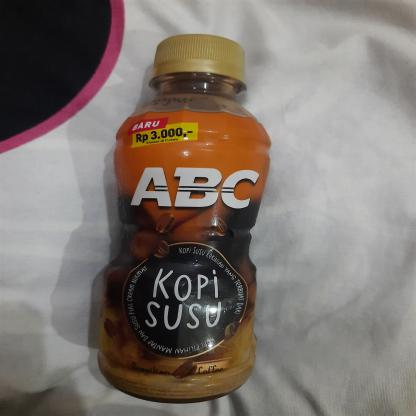bottle: (90, 30, 275, 406)
